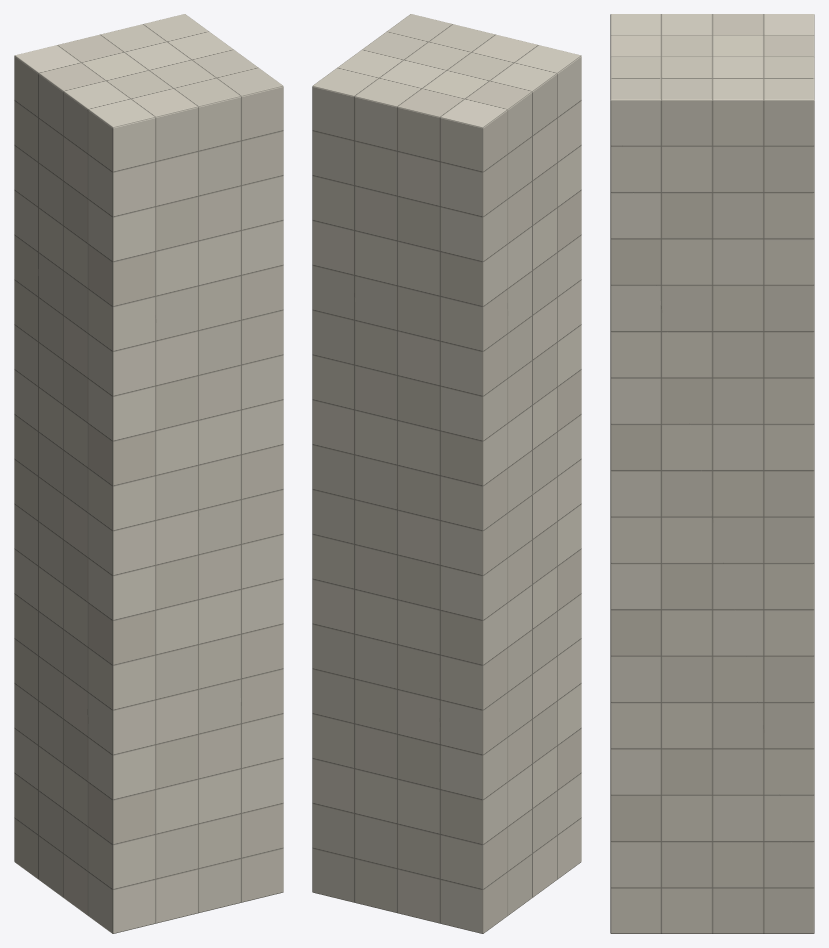
The model's file is MOD_37_Column_Submerged.glb.
3 renders of one model, left to right at view 1: azimuth 30°, elevation 25°; view 2: azimuth 150°, elevation 25°; view 3: azimuth 270°, elevation 25°, orthographic. The views are drawn at different scales.
Parts seen in each view (by area): view 1: MOD_37_Column_Submerged_Export; view 2: MOD_37_Column_Submerged_Export; view 3: MOD_37_Column_Submerged_Export.
Boxes of the visible parts, bbox=[...] form: MOD_37_Column_Submerged_Export: bbox=[14, 14, 283, 933]; MOD_37_Column_Submerged_Export: bbox=[312, 14, 581, 933]; MOD_37_Column_Submerged_Export: bbox=[610, 14, 814, 933].
Size of the model in its own units: 1 by 4.5 by 1.
Materials: 1 (1 with a texture image).
